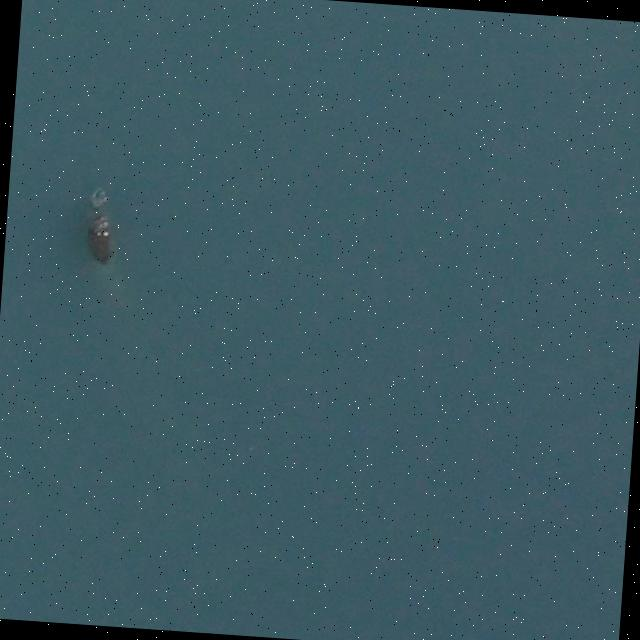seal: (87, 193, 112, 267)
